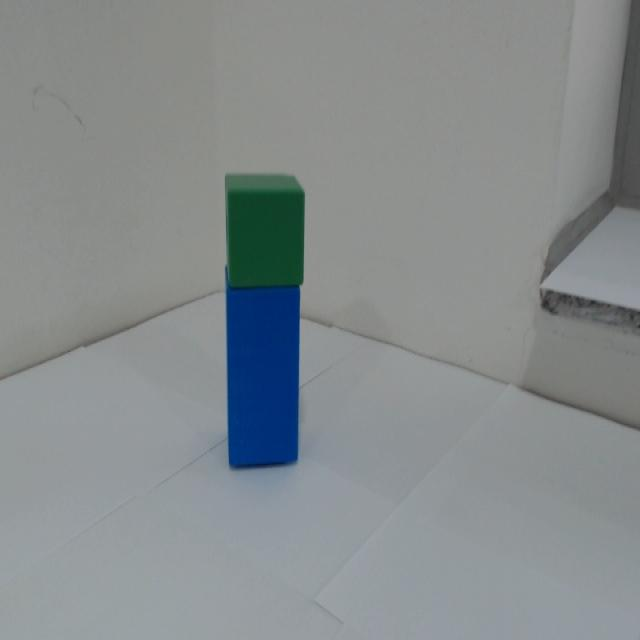cube: (224, 173, 308, 288)
